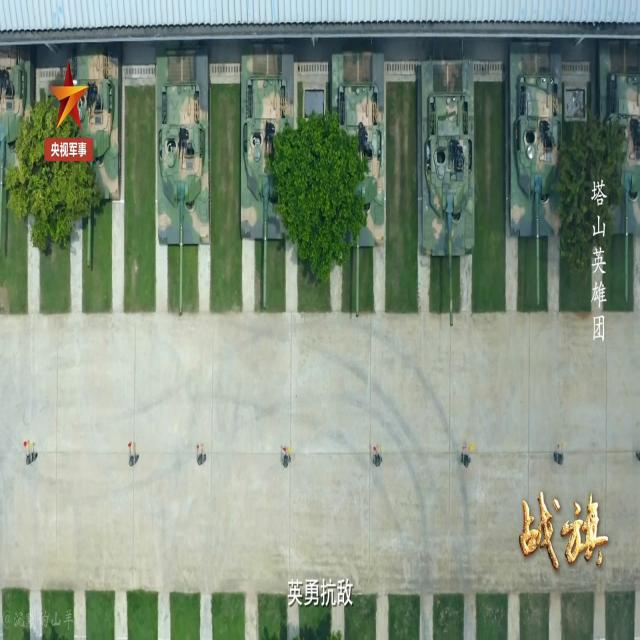tank: (415, 49, 475, 330), (506, 42, 563, 326), (328, 44, 387, 318), (152, 45, 210, 316), (240, 46, 292, 316), (74, 45, 122, 271), (602, 41, 640, 306)
